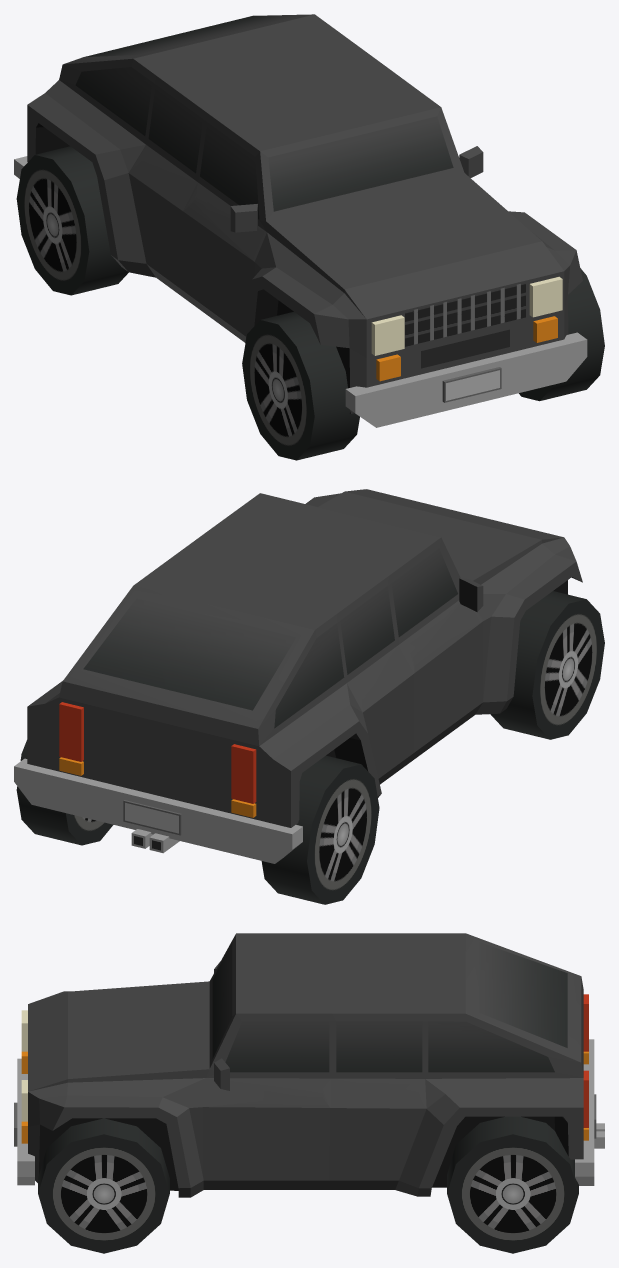
The model's file is SUVB.fbx.
The picture shows the model from 3 angles, top to bottom: view 1: azimuth 30°, elevation 25°; view 2: azimuth 150°, elevation 25°; view 3: azimuth 270°, elevation 25°; orthographic projection. The views are drawn at different scales.
Parts seen in each view (by area): view 1: SUVB, TireFR, TireBR, TireFL; view 2: SUVB, TireFR, TireBR, TireBL; view 3: SUVB, TireBL, TireFL.
Part boxes in pixels (x1,y1,x2,y2): SUVB: (14, 14, 587, 427); TireFR: (242, 312, 359, 460); TireBR: (16, 146, 128, 295); TireFL: (519, 268, 604, 401); SUVB: (14, 489, 582, 863); TireFR: (490, 591, 604, 739); TireBR: (261, 755, 379, 904); TireBL: (16, 740, 113, 845); SUVB: (14, 933, 604, 1197); TireBL: (447, 1116, 578, 1253); TireFL: (38, 1118, 169, 1253).
Size of the model in its own units: 244 by 191 by 474.
